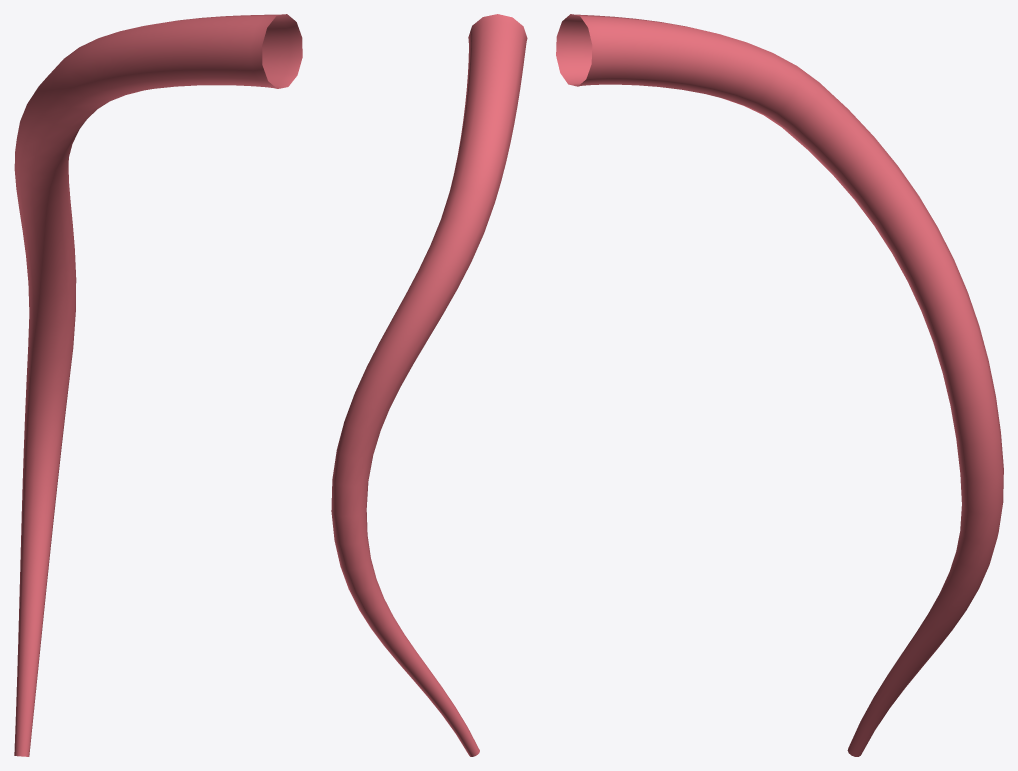
The picture shows the model from 3 angles, left to right: view 1: azimuth 30°, elevation 25°; view 2: azimuth 150°, elevation 25°; view 3: azimuth 270°, elevation 25°; orthographic projection. The views are drawn at different scales.
Parts seen in each view (by area): view 1: ZA_2dcf4a2159a64fb7; view 2: ZA_2dcf4a2159a64fb7; view 3: ZA_2dcf4a2159a64fb7.
Part boxes in pixels (x1=…): ZA_2dcf4a2159a64fb7: x1=14, y1=14, x2=302, y2=756; ZA_2dcf4a2159a64fb7: x1=331, y1=14, x2=527, y2=756; ZA_2dcf4a2159a64fb7: x1=556, y1=14, x2=1003, y2=756.
Bounding box in the file's own units: 0.00228 × 0.0119 × 0.0061.
